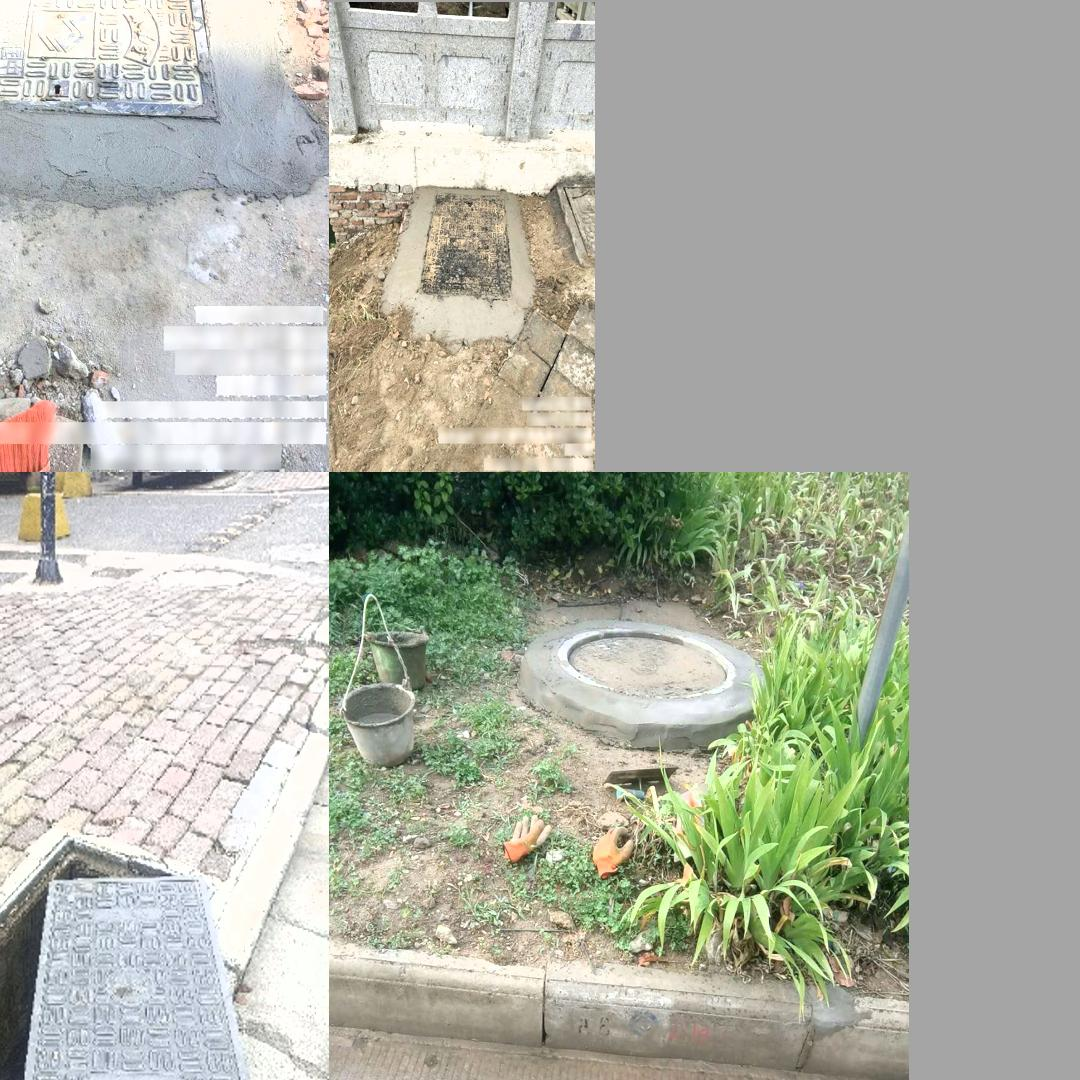good: (0, 0, 218, 118), (556, 626, 737, 695), (415, 190, 514, 298)
uncovered: (0, 819, 267, 1080)
